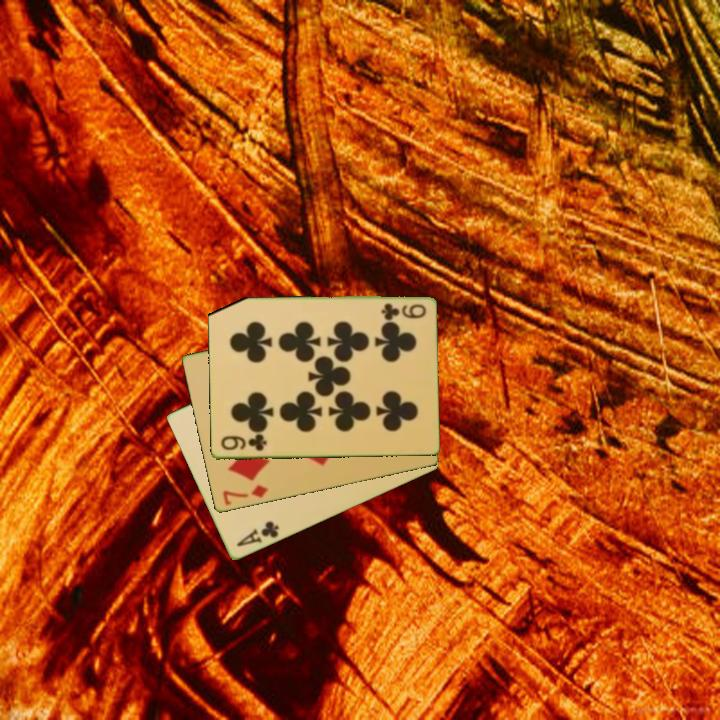7d: (219, 481, 271, 508)
9c: (217, 433, 269, 454), (377, 300, 428, 321)
Ac: (233, 518, 282, 550)
